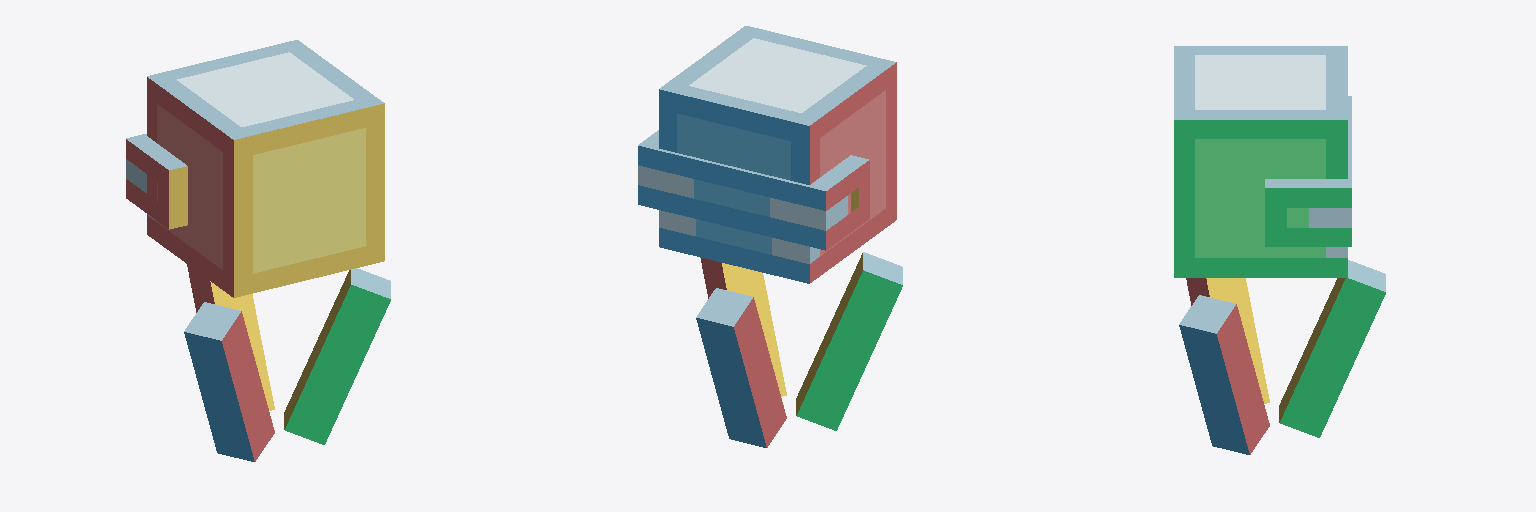
3 renders of one model, left to right at view 1: azimuth 30°, elevation 25°; view 2: azimuth 150°, elevation 25°; view 3: azimuth 270°, elevation 25°, orthographic.
Visible parts, largest first — view 1: head, rods, eyes; view 2: head, rods, eyes; view 3: head, rods, eyes.
Boxes of the visible parts, x1,y1,x2,y2 form: head: [147, 40, 384, 297]; rods: [184, 264, 390, 461]; eyes: [126, 134, 187, 229]; head: [659, 26, 896, 283]; rods: [696, 252, 902, 447]; eyes: [638, 130, 869, 250]; head: [1174, 46, 1347, 277]; rods: [1179, 260, 1385, 454]; eyes: [1265, 96, 1351, 246].
Bounding box in the file's own units: 0.6873 × 1.1 × 0.6107.
1 materials, 1 textured.